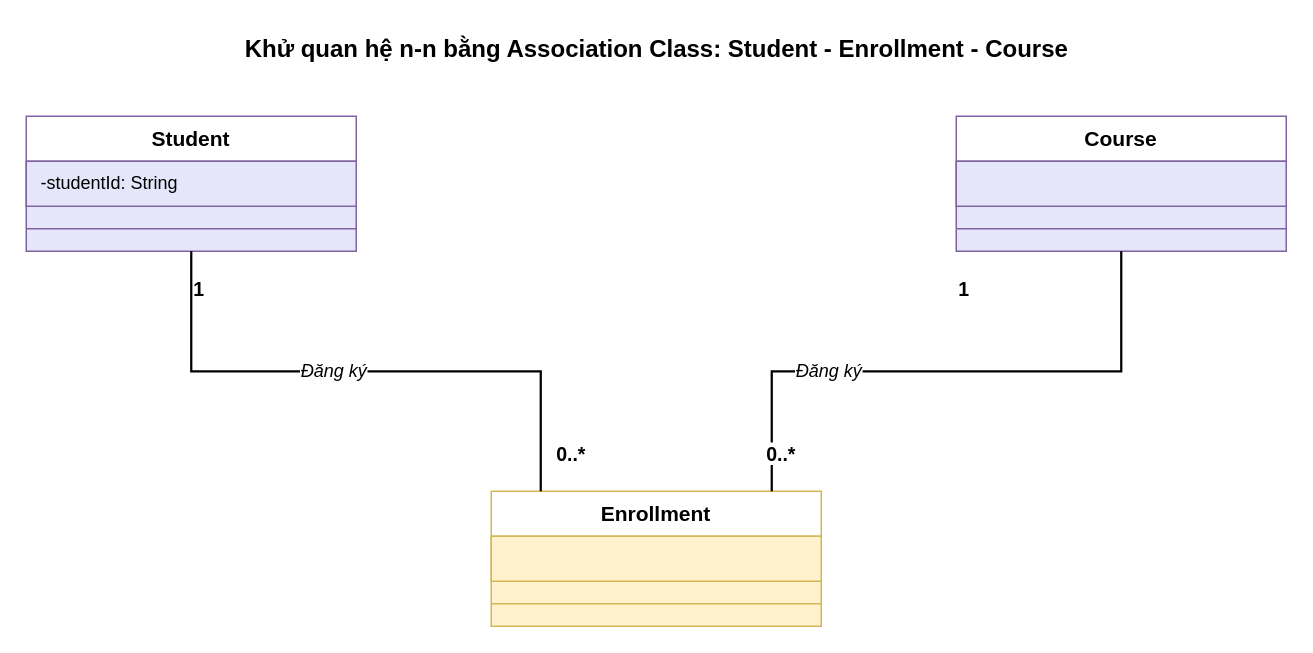
Image size: 1313x653. Some labels were removed from this diagram. The centre of each missing label's shape, as x and y in pixels:
-courseId: String: [1120,183]
-enrollDate: Date: [655,558]
